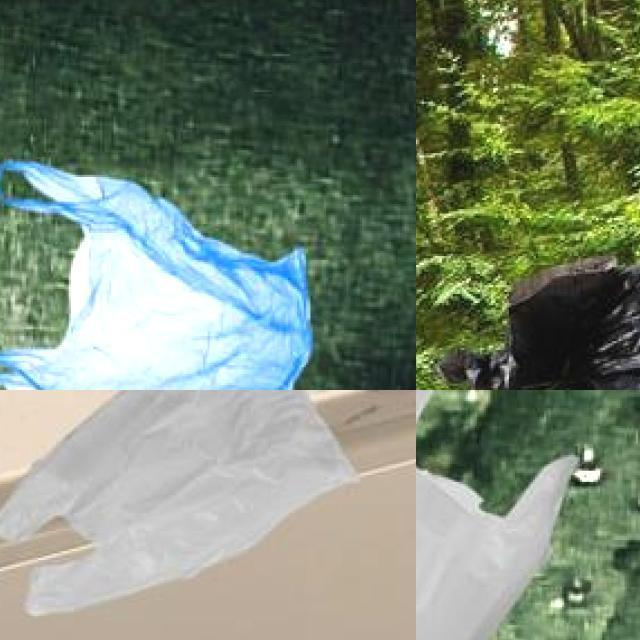waste: (0, 151, 320, 390), (0, 390, 346, 610), (416, 390, 577, 640), (493, 254, 640, 390)
